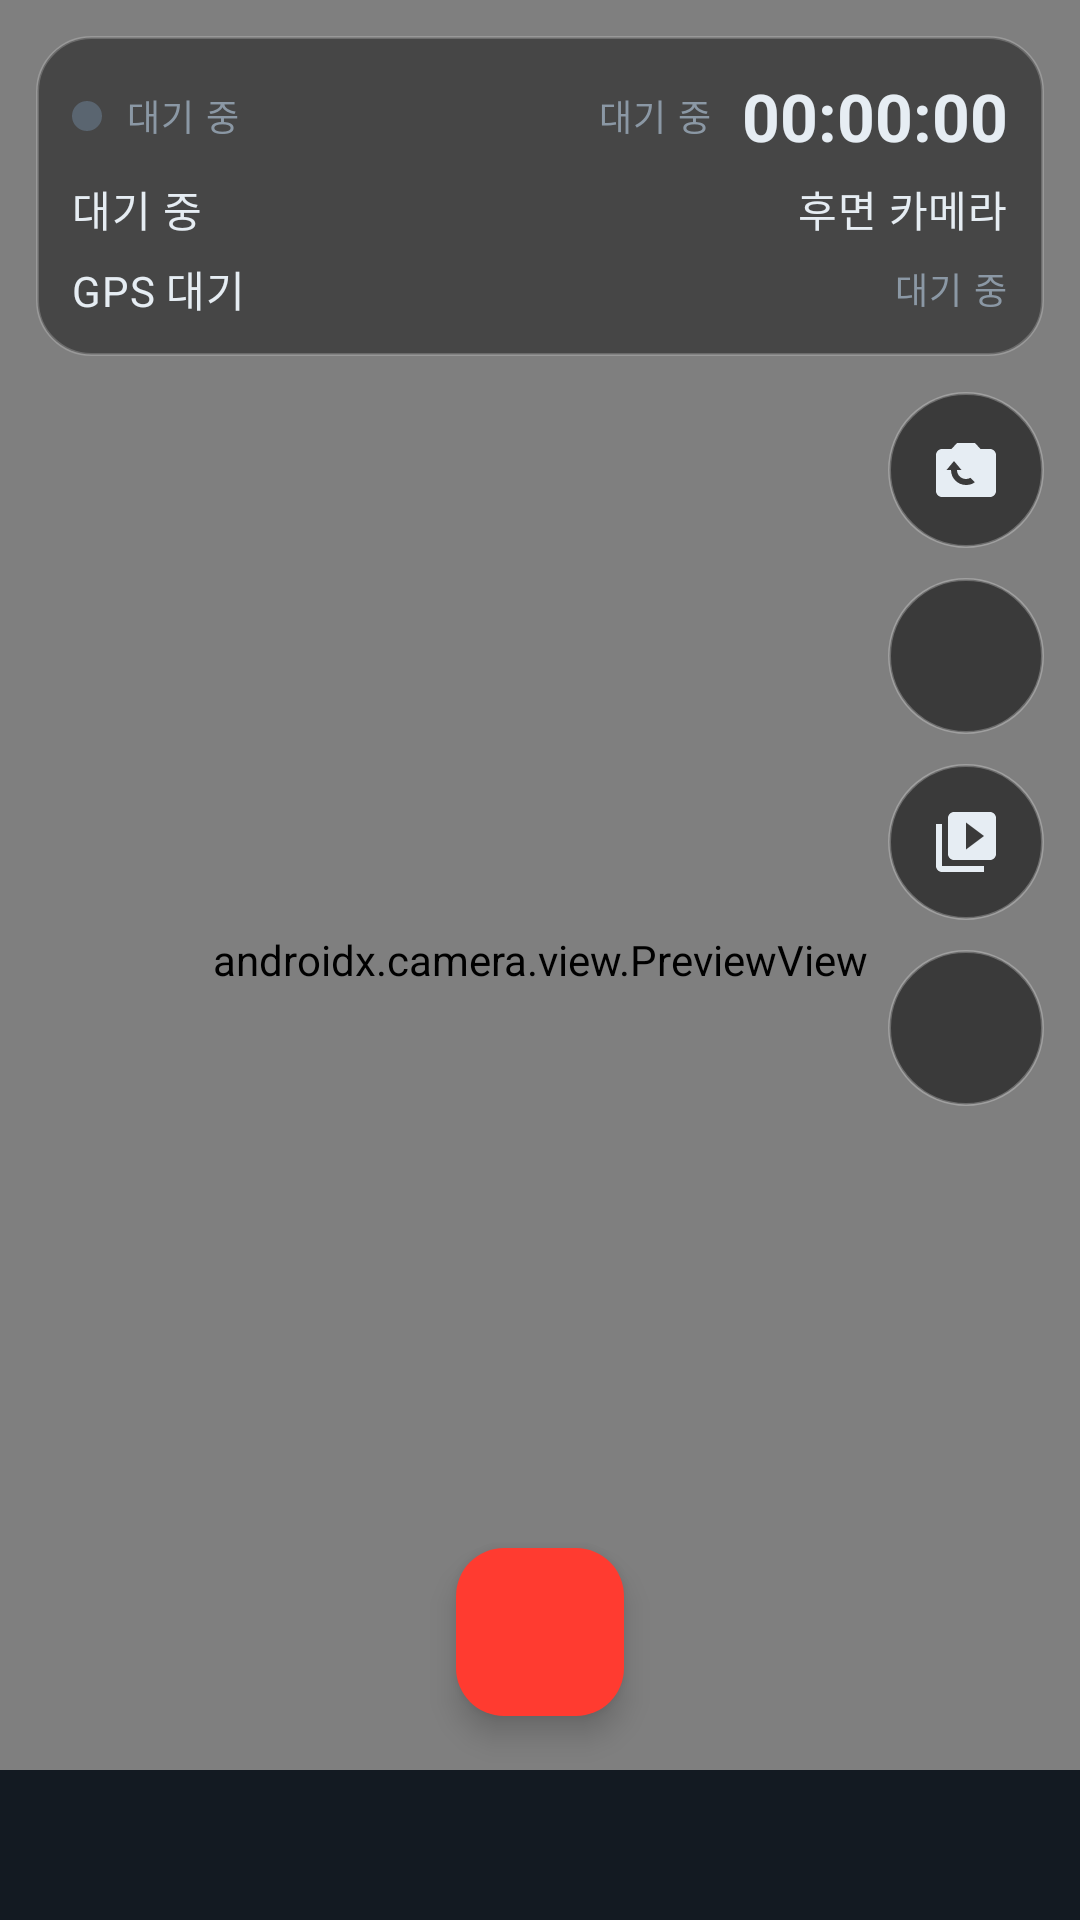

Named icons in this screenshot (1080*1920) and their bounding boxes, rect(x1, y1, x2, y2):
녹화 목록: rect(888, 764, 1044, 920)
전면/후면 카메라 전환: rect(888, 392, 1044, 548)
